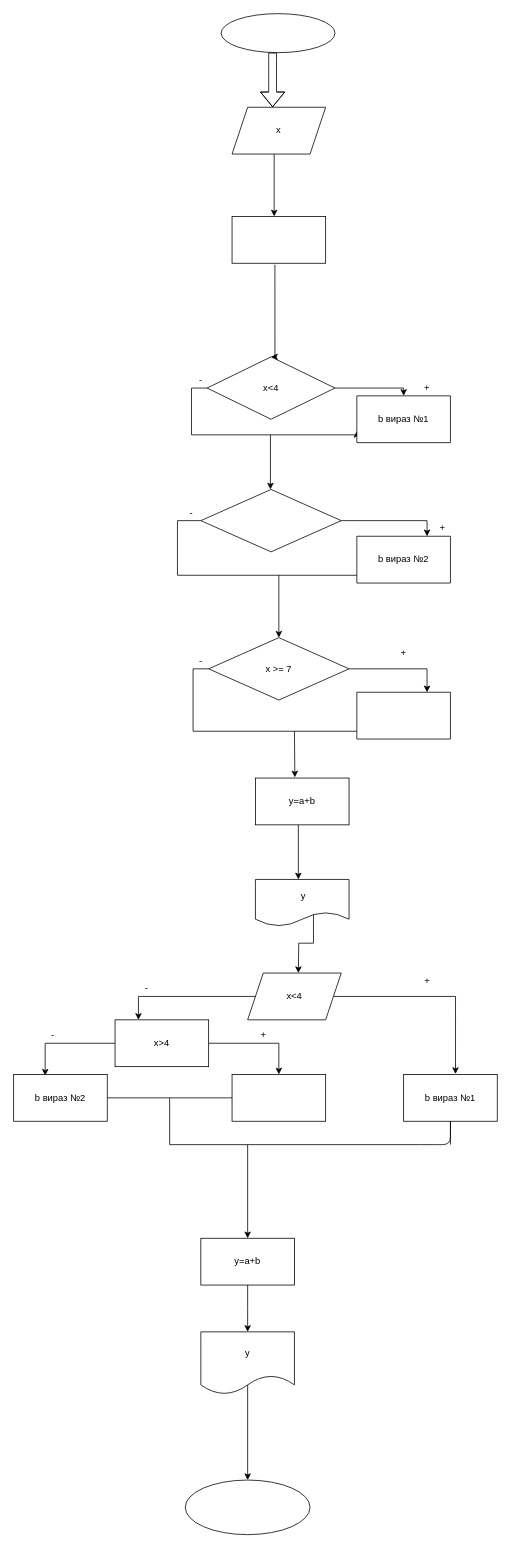
Some shapes in this 511 by 1548 pixel diagram are drawn without their labels. The shapes that lost their labels are listed below. From the top down, each one's box as (x1, y1, x2, y2) in pixels, then its label:
(220, 13, 335, 53): початок
(231, 216, 326, 263): b вираз№1
(200, 489, 341, 552): x >= 4 && x < 7
(356, 691, 450, 739): b вираз №3
(231, 1074, 326, 1121): b вираз№3
(184, 1479, 310, 1535): кінець
